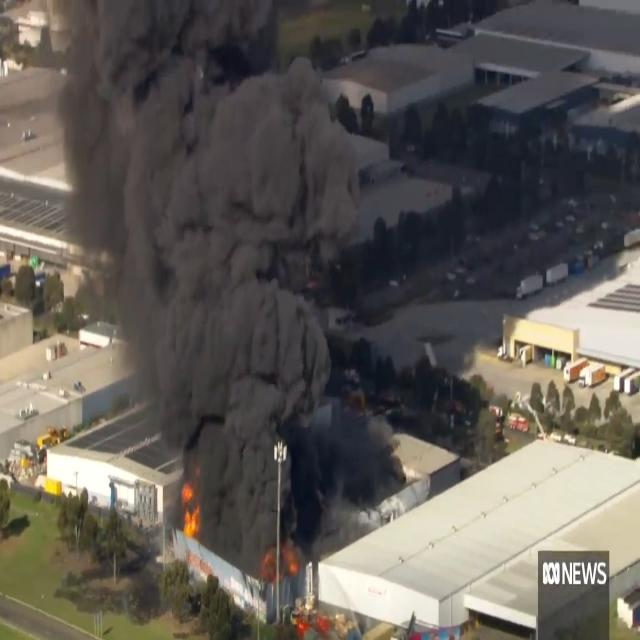fire: (180, 477, 202, 538)
